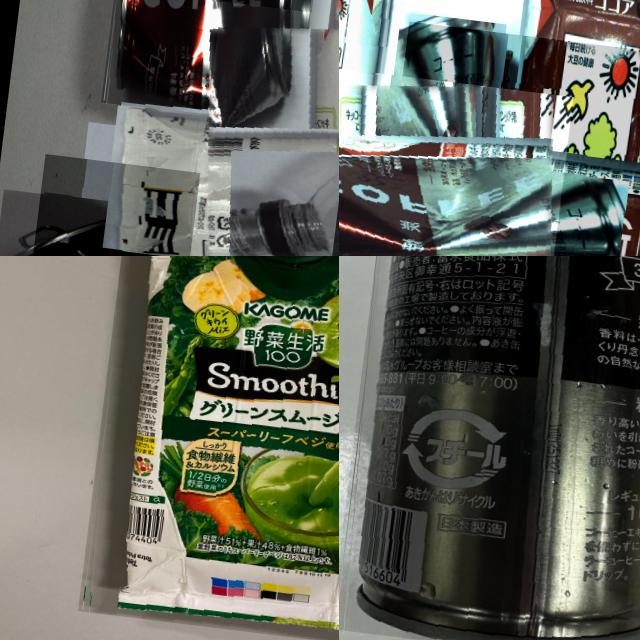Aluminium Foil: (77, 256, 339, 640), (362, 21, 640, 256), (176, 1, 339, 256), (339, 0, 414, 256)
Can: (339, 256, 640, 640), (339, 65, 574, 256), (10, 153, 332, 256), (101, 0, 325, 126)
